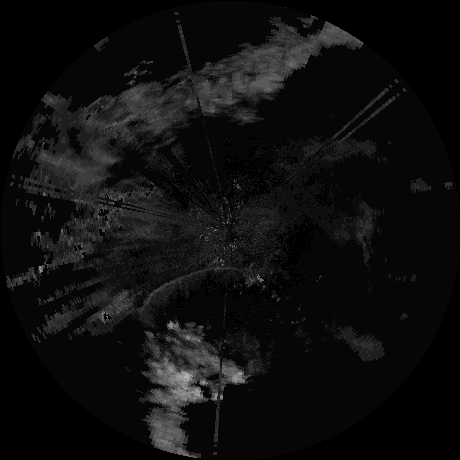frontgust: (136, 266, 254, 310)
